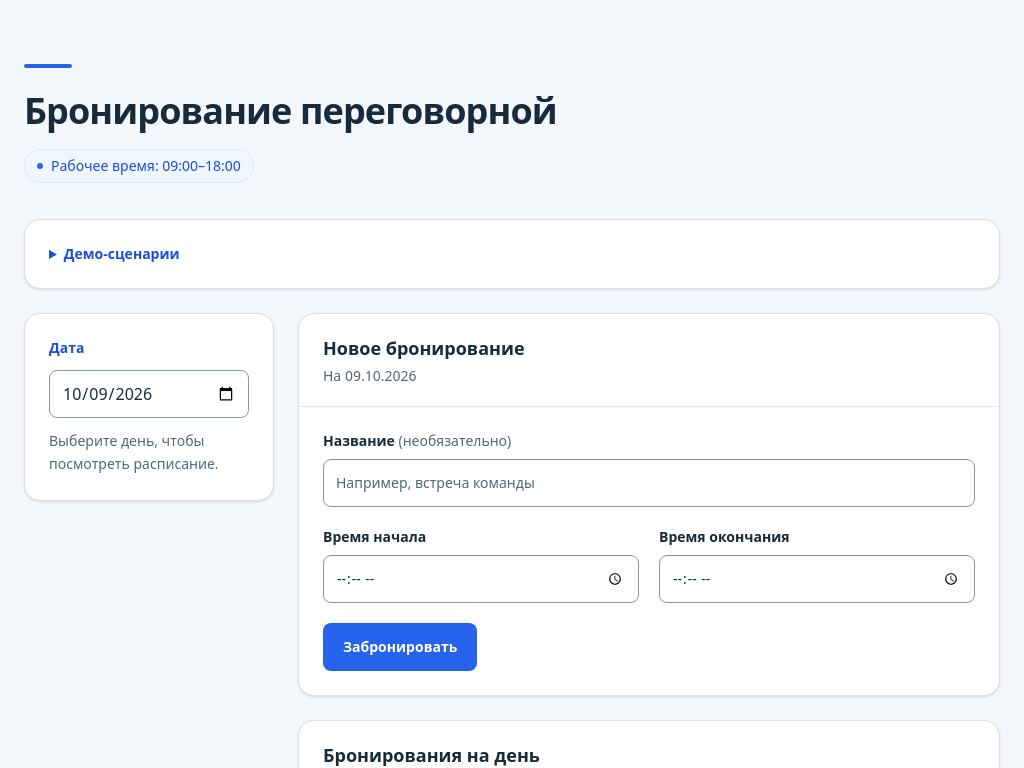
Test: validates 08:59–10:00 on submit and associates the error with Время начала
This screenshot has width=1024, height=768.
Type "Встреча команды" into the field labelled "Название (необязательно)" at [649, 483], box top-left (323, 459), bottom-right (975, 507)
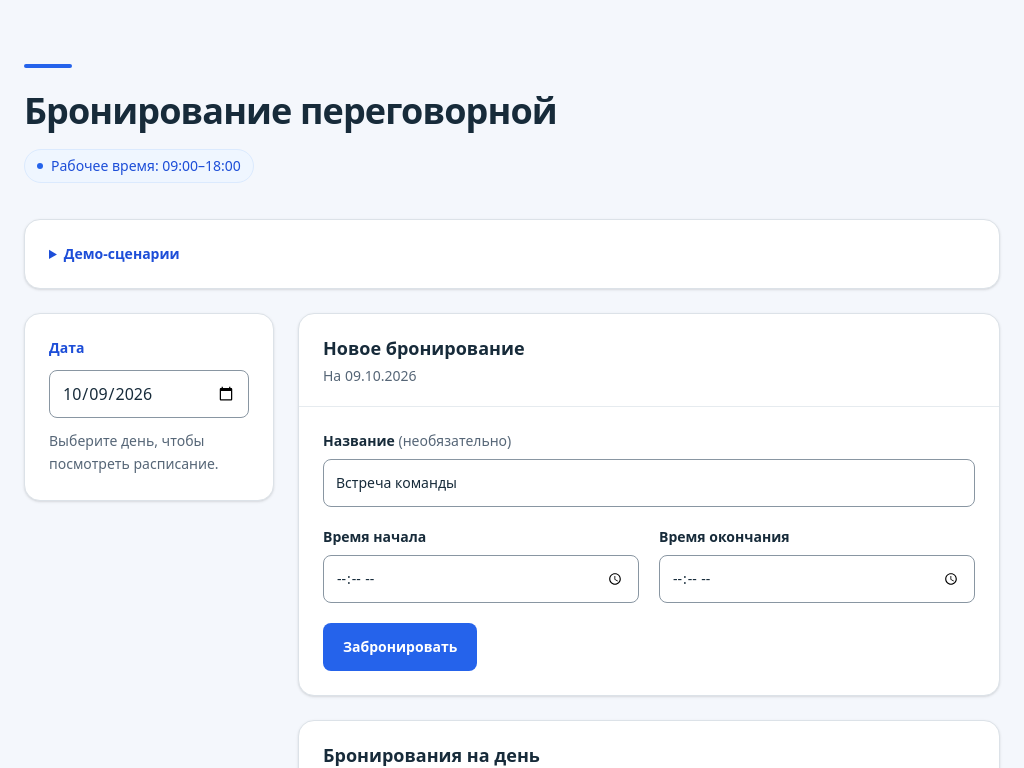
Type "08:59" into the time field labelled "Время начала" at [481, 579], box top-left (323, 555), bottom-right (639, 603)
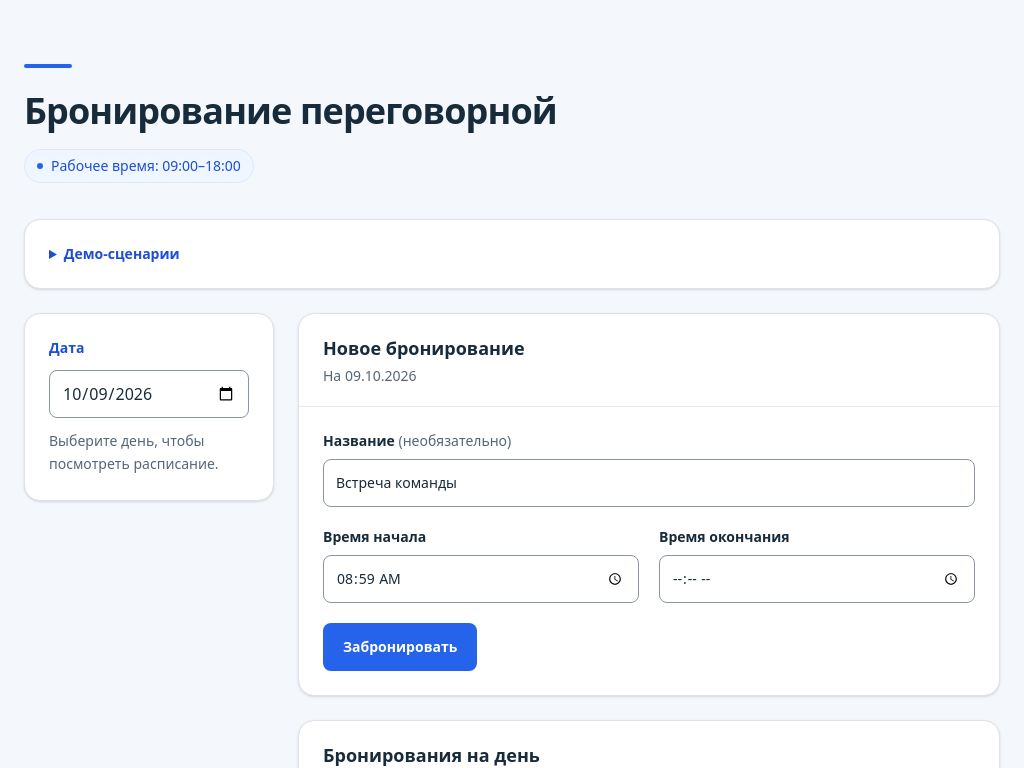
Type "10:00" into the time field labelled "Время окончания" at [817, 579], box top-left (659, 555), bottom-right (975, 603)
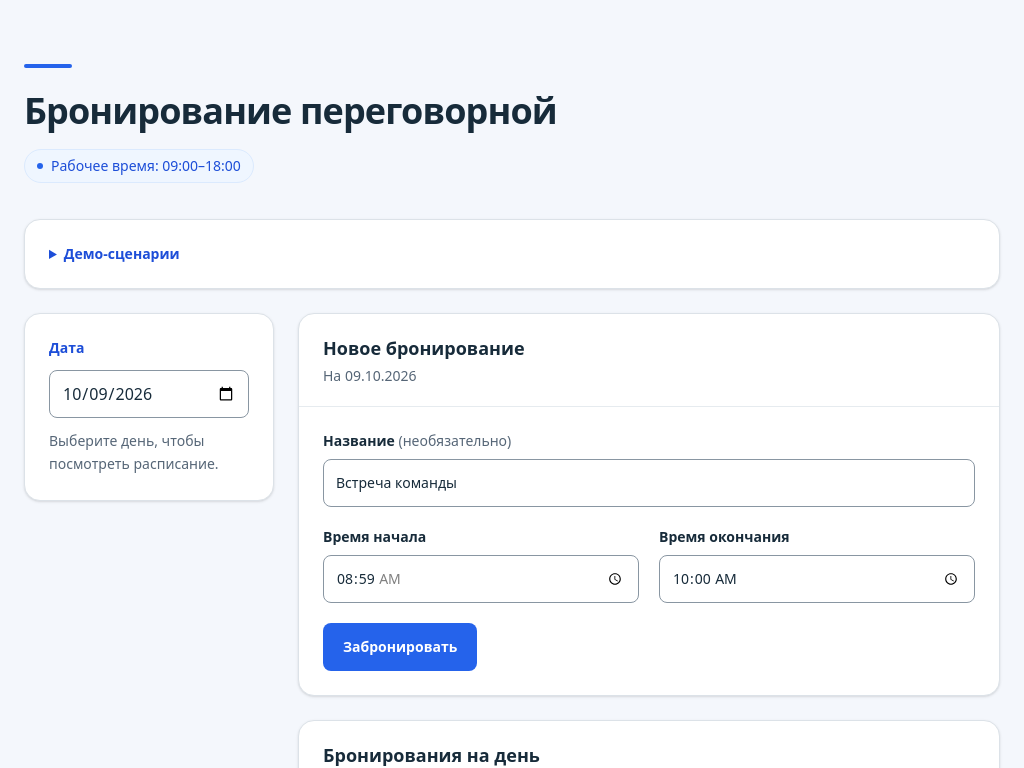
Click the button "Забронировать" at [400, 647], box top-left (323, 623), bottom-right (477, 671)
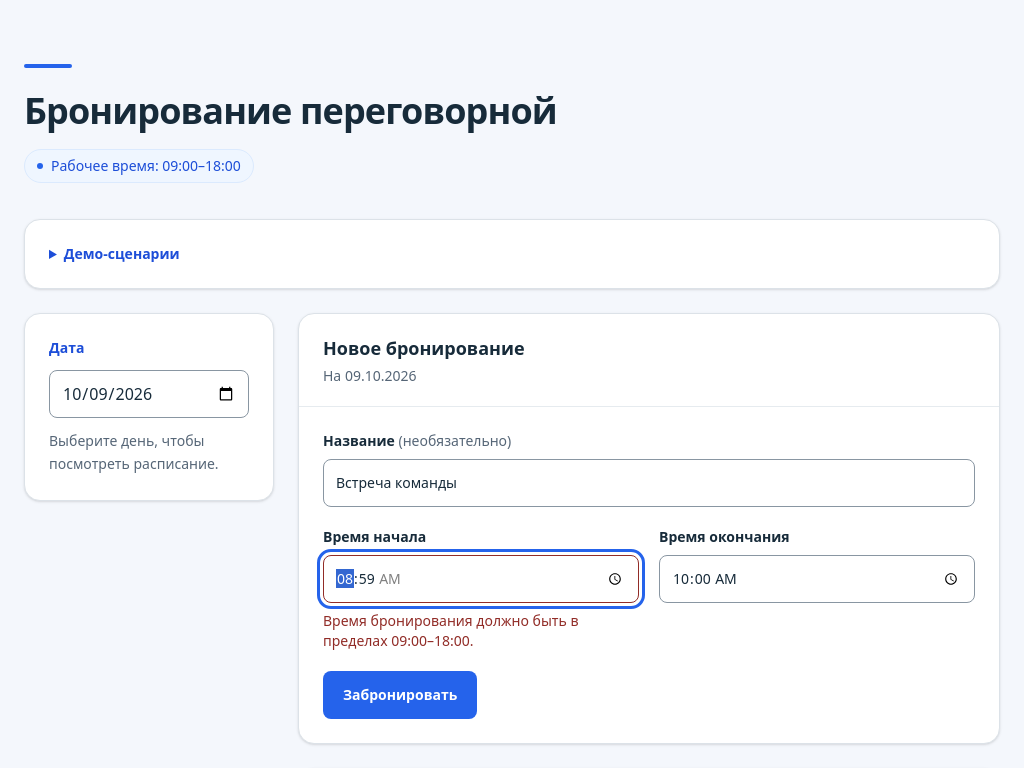
Now the message reads "Время бронирования должно быть в пределах 09:00–18:00.", box top-left (323, 611), bottom-right (578, 650)
